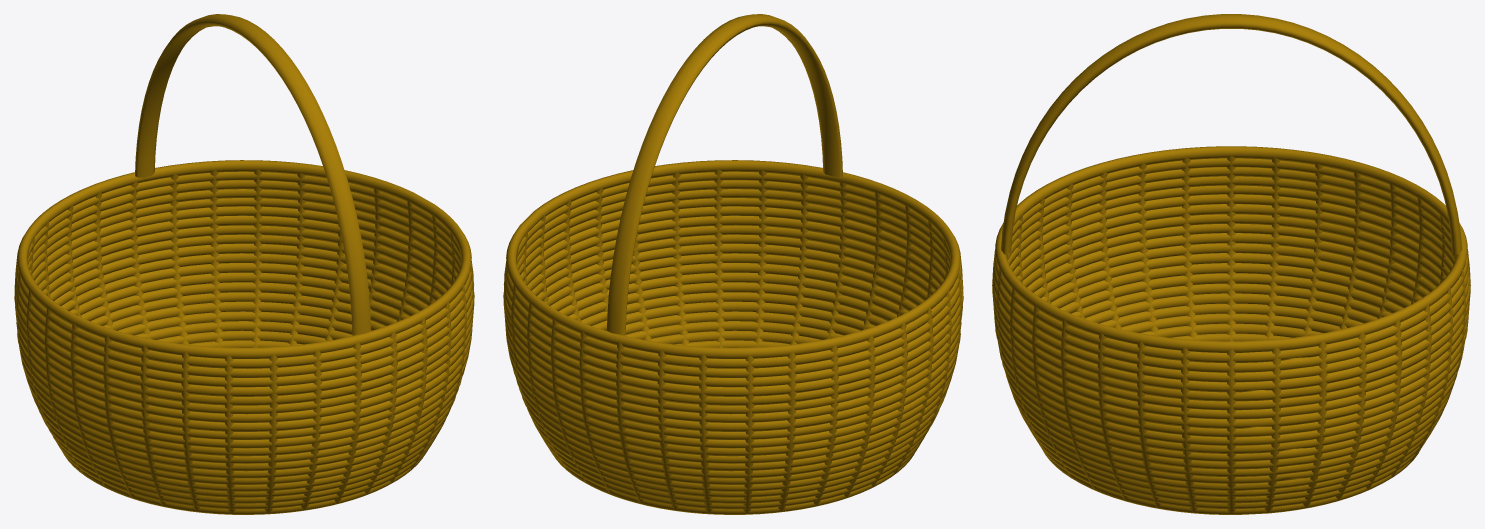
File: basket.fbx
3 renders of one model, left to right at view 1: azimuth 30°, elevation 25°; view 2: azimuth 150°, elevation 25°; view 3: azimuth 270°, elevation 25°, orthographic. The views are drawn at different scales.
Visible parts, largest first — view 1: polySurface214; view 2: polySurface214; view 3: polySurface214.
Part boxes in pixels (x1,y1,x2,y2): polySurface214: (14,14,474,514); polySurface214: (503,14,963,514); polySurface214: (992,14,1470,514).
Size of the model in its own units: 5.82 by 5.68 by 5.82.
